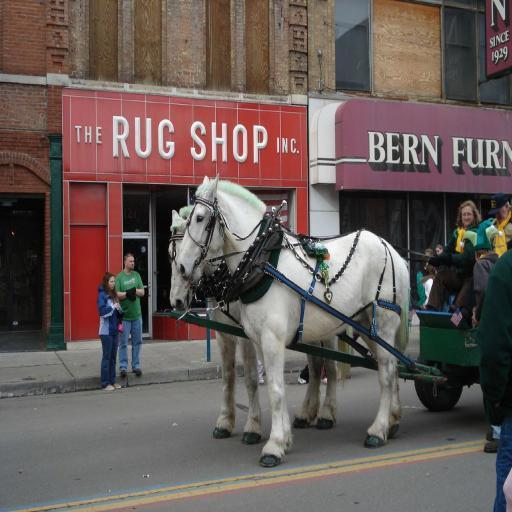horse: (176, 174, 410, 468), (168, 206, 356, 448)
